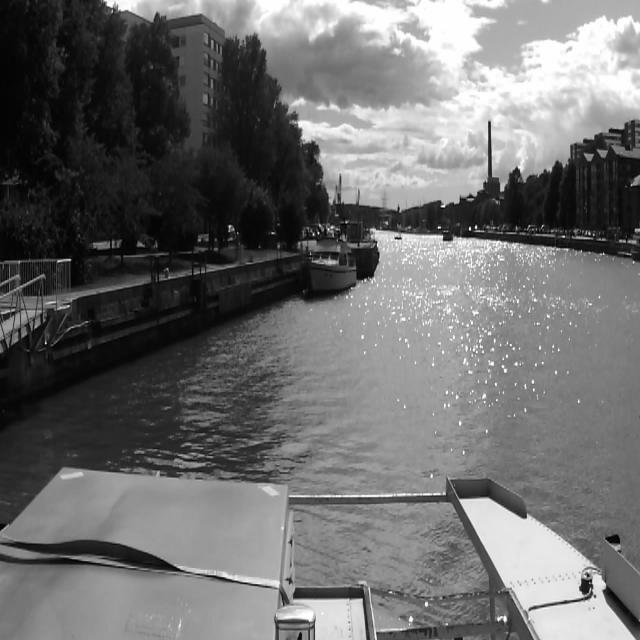ship: (307, 221, 357, 296)
